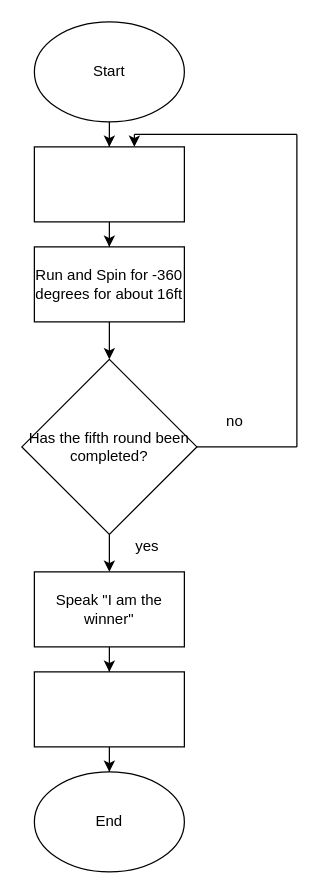
This 320x894 diagram has some shape labels left out. The shapes that lost their labels are listed below. From the top down, each one's centre as x and y in pixels, then its label:
At point 108,184: "Run and Spin for 360 degrees for about 16ft".
At point 108,709: "Flash multicolored lights for 5 seconds".
